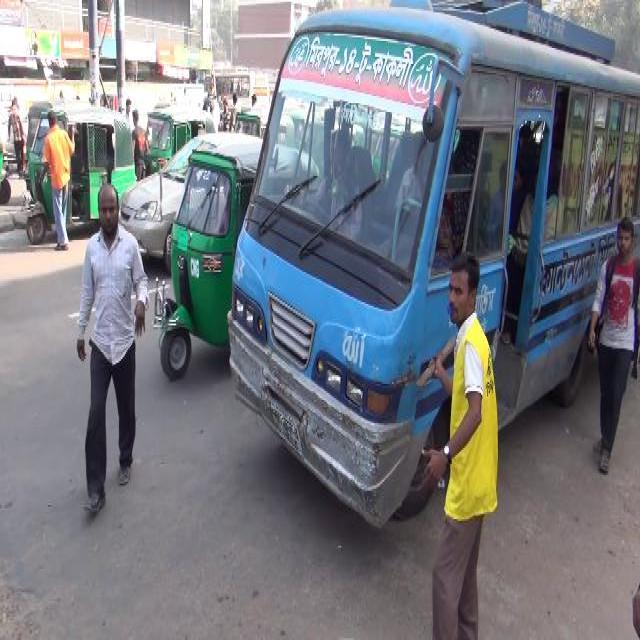bus: (223, 0, 638, 528), (215, 66, 269, 116)
car: (112, 126, 255, 274)
motorcycle: (162, 140, 314, 416), (23, 103, 135, 240), (22, 91, 77, 181), (147, 100, 213, 172), (232, 105, 298, 160), (0, 126, 13, 212)
